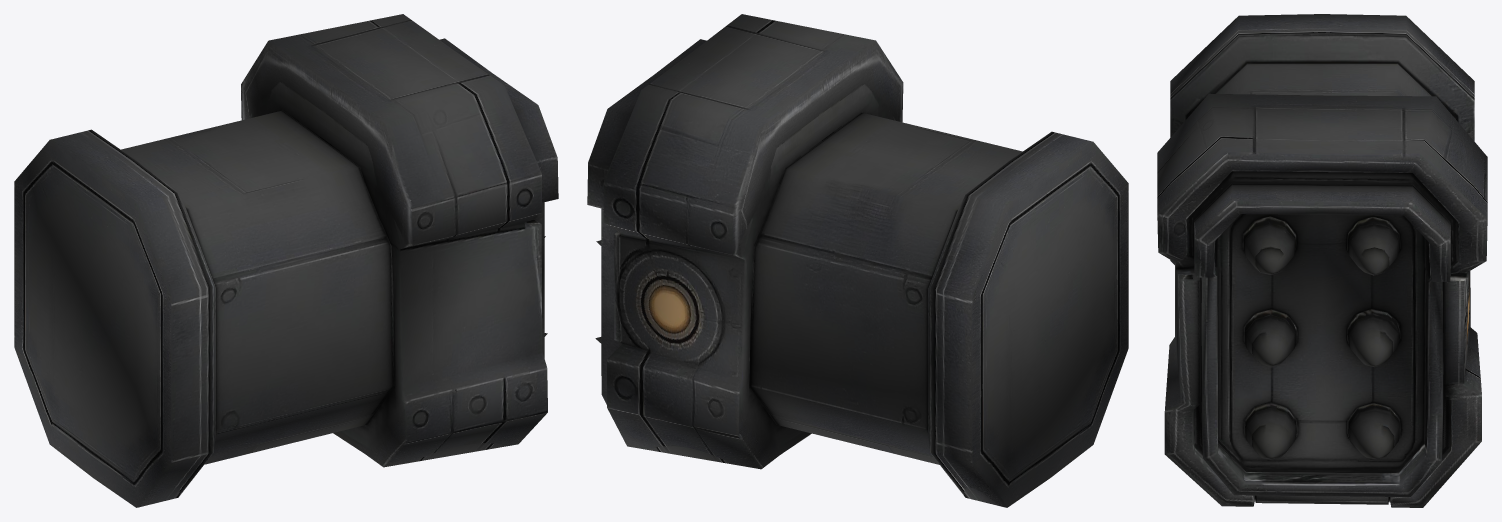
File: cold-iron-v2-weapon-c-missile-pod.glb
3 renders of one model, left to right at view 1: azimuth 30°, elevation 25°; view 2: azimuth 150°, elevation 25°; view 3: azimuth 270°, elevation 25°, orthographic. The views are drawn at different scales.
Parts seen in each view (by area): view 1: tripo_node_0401d42a-bc30-4bdd-9dba-bc6e02587df4; view 2: tripo_node_0401d42a-bc30-4bdd-9dba-bc6e02587df4; view 3: tripo_node_0401d42a-bc30-4bdd-9dba-bc6e02587df4.
Part boxes in pixels (x1,y1,x2,y2): tripo_node_0401d42a-bc30-4bdd-9dba-bc6e02587df4: [14, 14, 558, 507]; tripo_node_0401d42a-bc30-4bdd-9dba-bc6e02587df4: [587, 14, 1128, 507]; tripo_node_0401d42a-bc30-4bdd-9dba-bc6e02587df4: [1157, 14, 1487, 507].
Size of the model in its own units: 0.998 by 0.8066 by 0.6895.
1 material, 1 textured.
